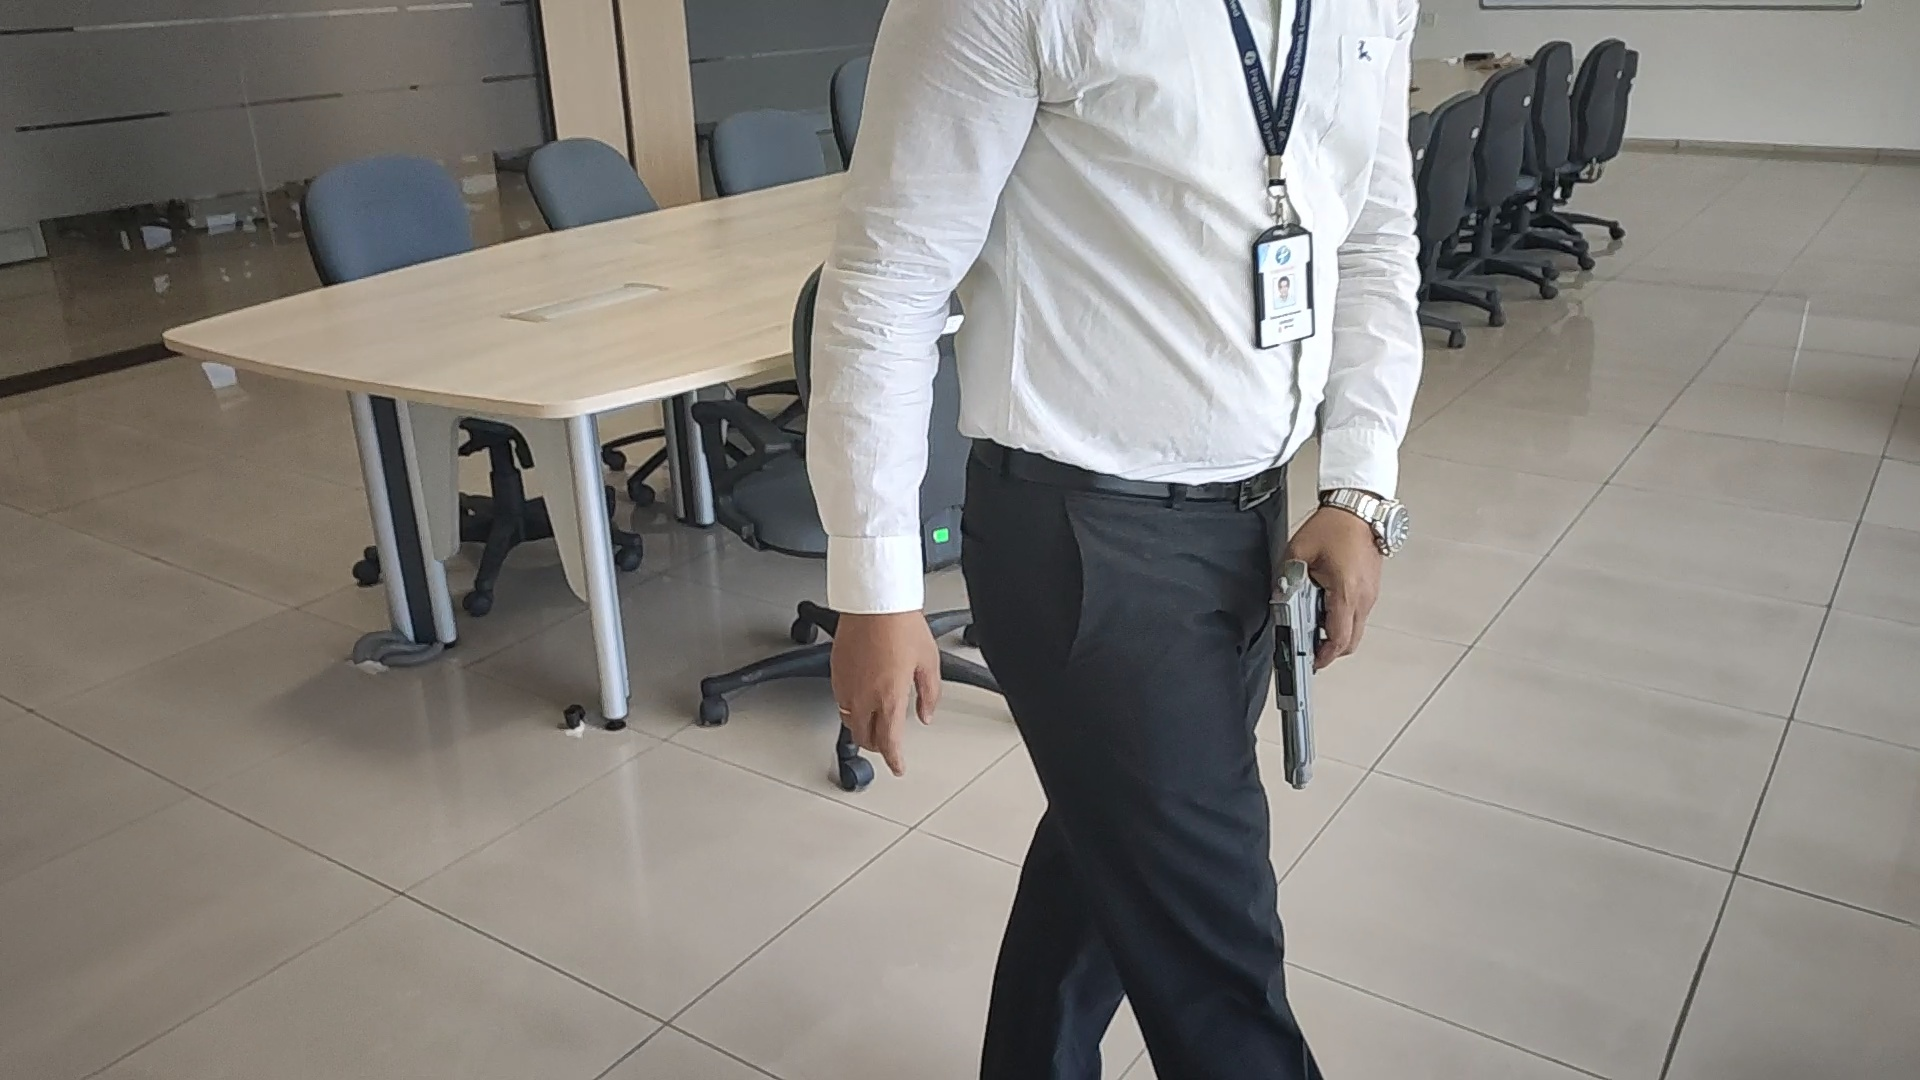gun: (1269, 553, 1327, 790)
